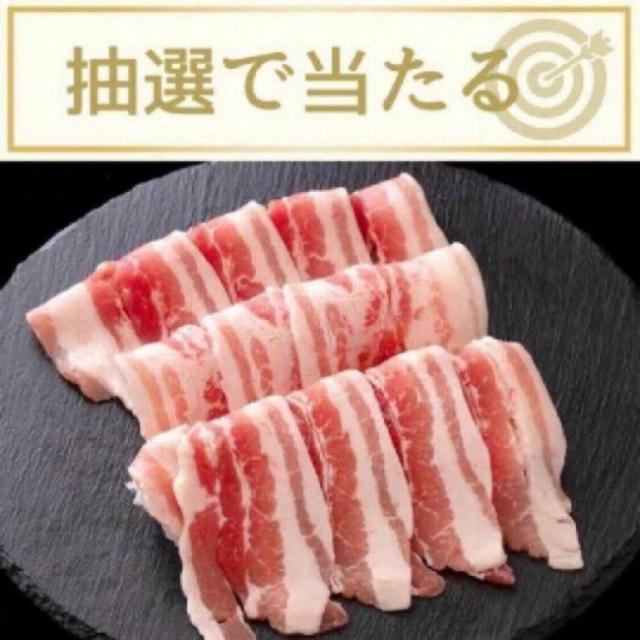NG raw pork,: (134, 389, 353, 640), (286, 363, 457, 617), (358, 339, 515, 593), (443, 332, 586, 578), (26, 259, 168, 404), (99, 322, 237, 443), (289, 260, 413, 388), (194, 285, 314, 413), (387, 237, 500, 358), (115, 232, 238, 340), (181, 197, 303, 302), (263, 188, 381, 283), (348, 168, 454, 267)
